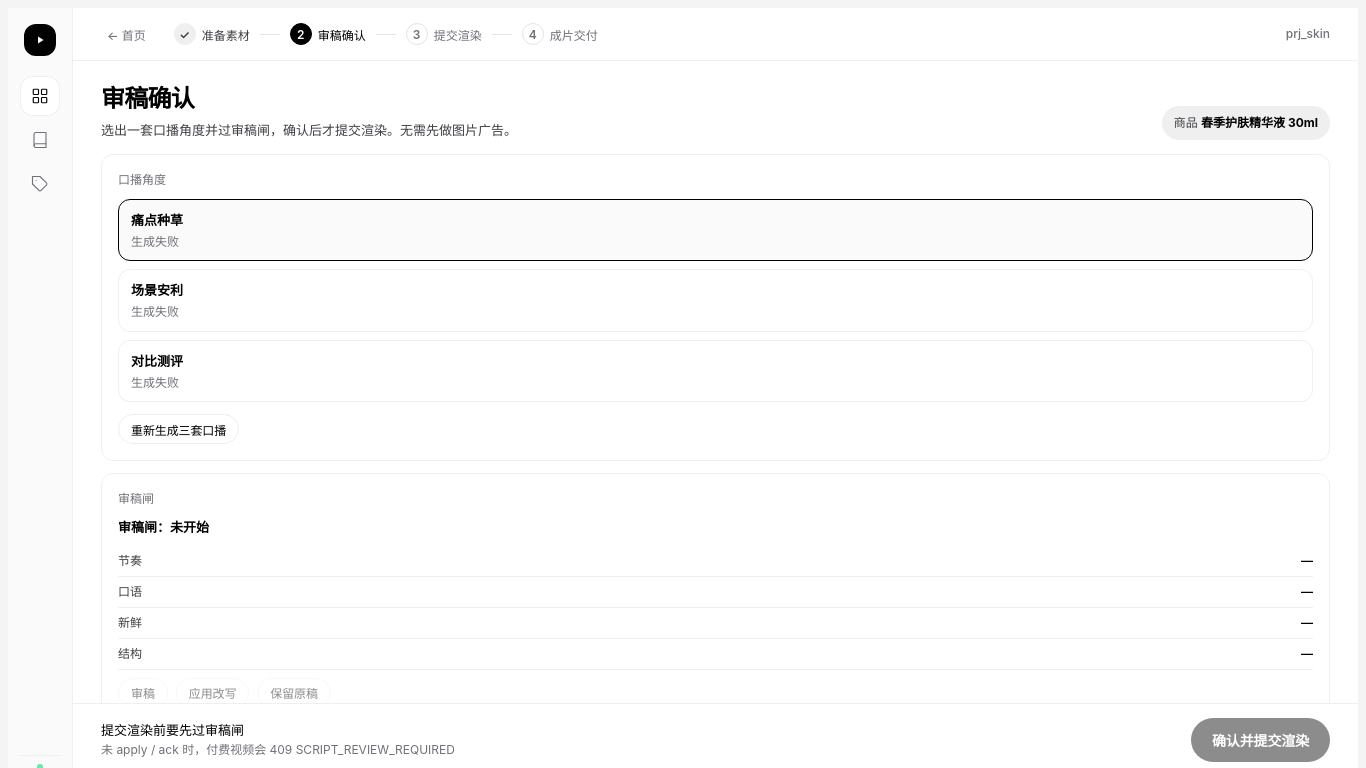
Test: iter18 图片广告与工作室解耦 › 重新生成一批后，默认角高亮仍要再点一次
Click the button "痛点种草 生成失败". click: [157, 220]
box: [118, 199, 1313, 261]
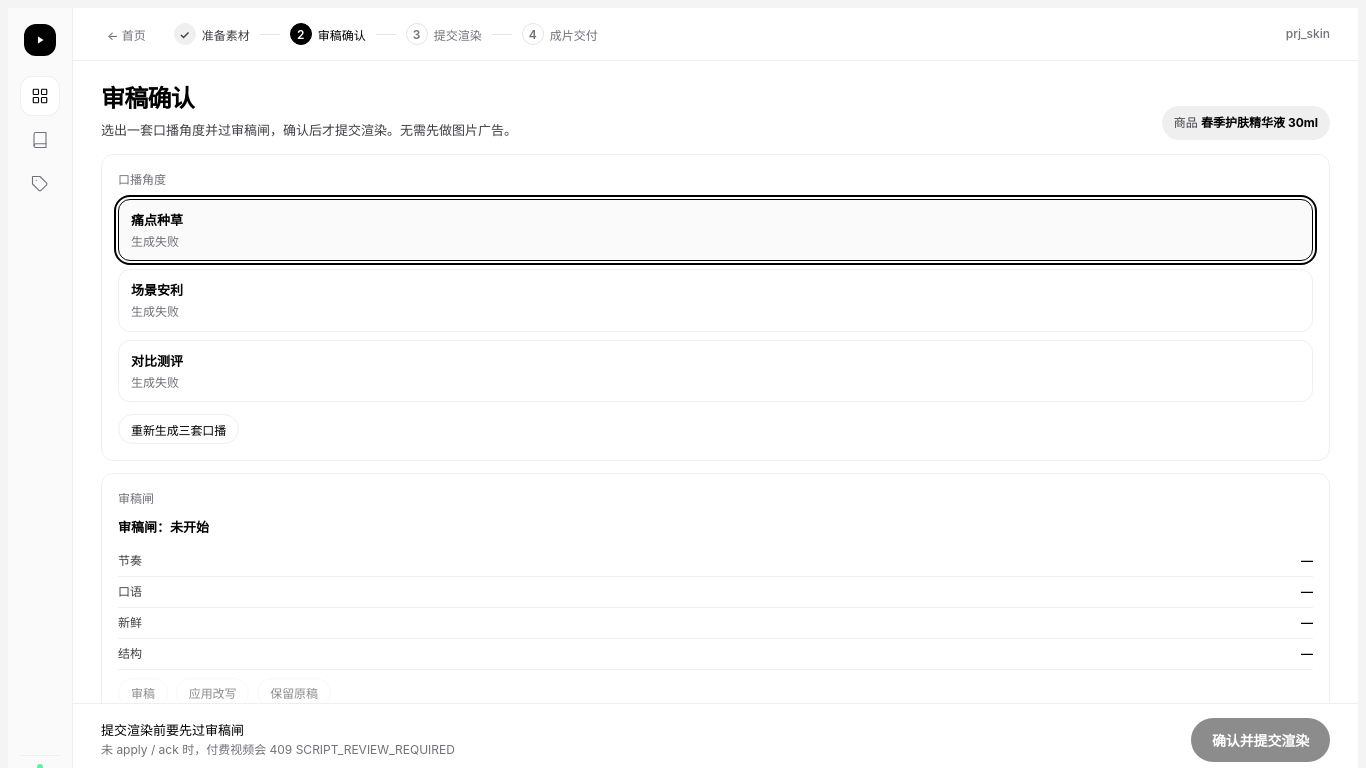
Expected: the text "请先选择角度" is not shown
Click the button "重新生成三套口播". click: [178, 429]
box: [118, 414, 239, 444]
(page scrolled)
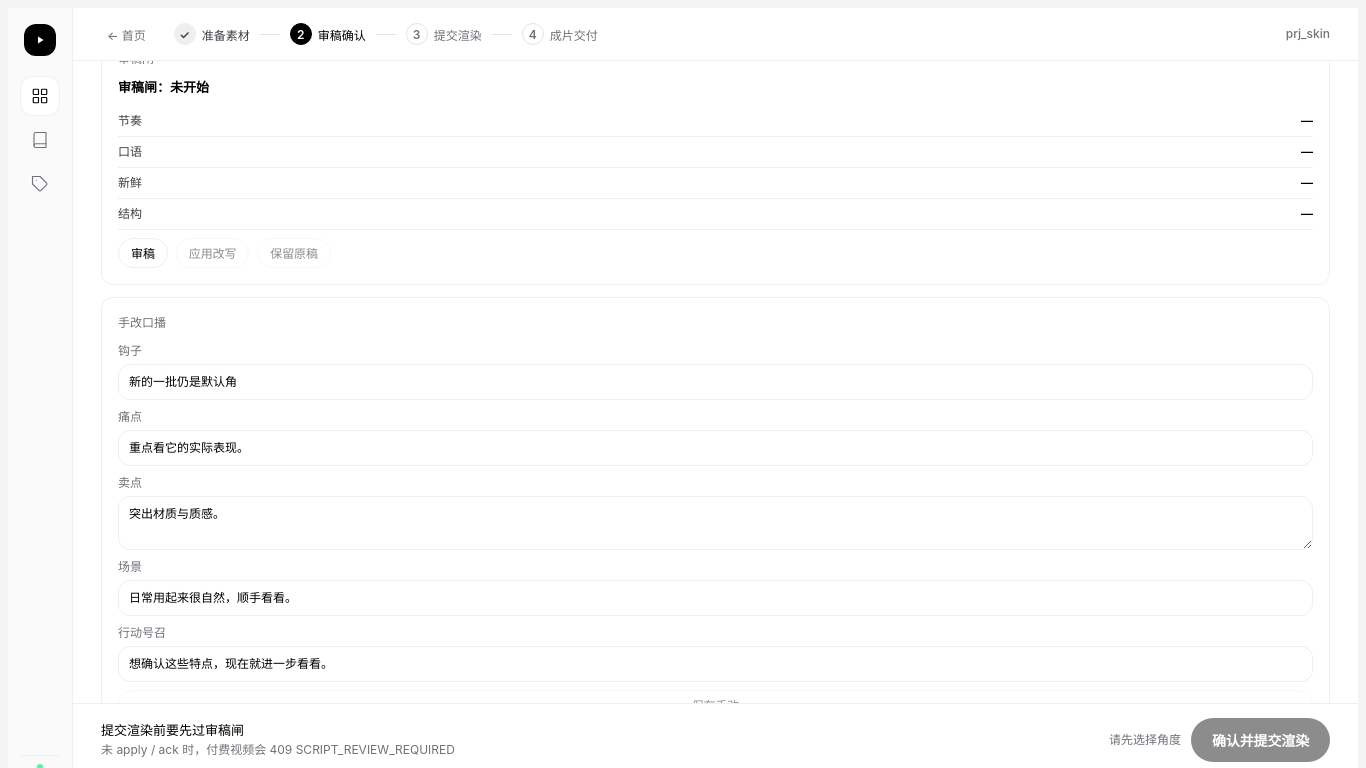
Expected: the button "确认并提交渲染" is disabled, [1191, 718, 1330, 762]
Expected: the text "请先选择角度" is shown, [1109, 731, 1181, 749]
Expected: the field labelled "钩子" holds "新的一批仍是默认角", [118, 364, 1313, 400]
